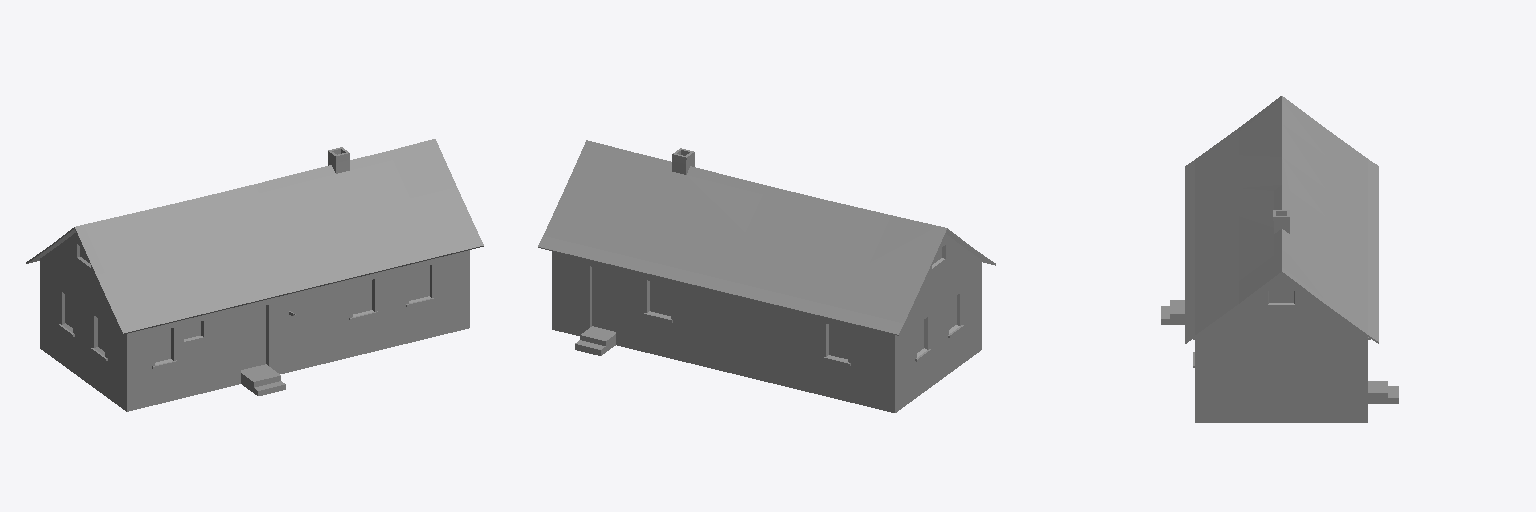
File: soldier2.mtl.obj
The picture shows the model from 3 angles: view 1: azimuth 30°, elevation 25°; view 2: azimuth 150°, elevation 25°; view 3: azimuth 270°, elevation 25°; orthographic projection.
Visible parts, largest first — view 1: pHouse; view 2: pHouse; view 3: pHouse.
Boxes of the visible parts, <box> form: pHouse: <box>26,139,483,411</box>; pHouse: <box>538,140,995,412</box>; pHouse: <box>1161,96,1398,422</box>.
Bounding box in the file's own units: 14.49 × 6.39 × 8.25.